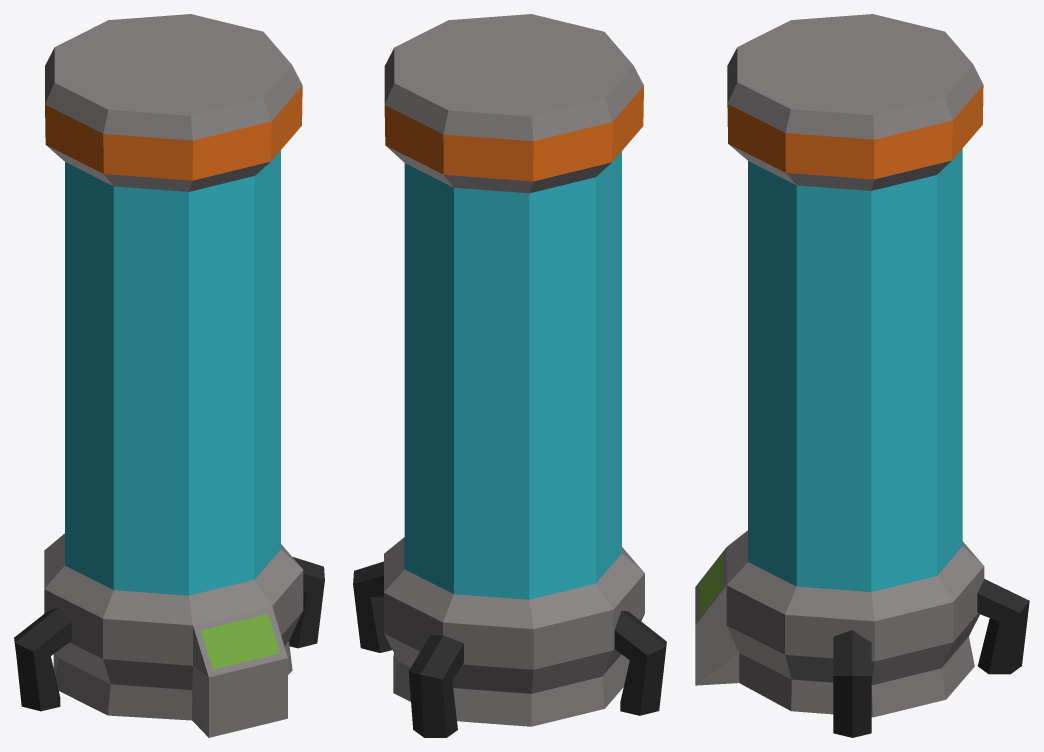
Rendered from scifi-tube-specimen.glb.
The picture shows the model from 3 angles, left to right: view 1: azimuth 30°, elevation 25°; view 2: azimuth 150°, elevation 25°; view 3: azimuth 270°, elevation 25°; orthographic projection.
Visible parts, largest first — view 1: scifi-tube-specimen; view 2: scifi-tube-specimen; view 3: scifi-tube-specimen.
Part boxes in pixels (box(x1,y1,x2,y2)): scifi-tube-specimen: box(14, 14, 324, 737); scifi-tube-specimen: box(353, 14, 666, 737); scifi-tube-specimen: box(695, 14, 1029, 737).
Bounding box in the file's own units: 1.6 × 3 × 1.51.
Materials: 1 (1 with a texture image).
